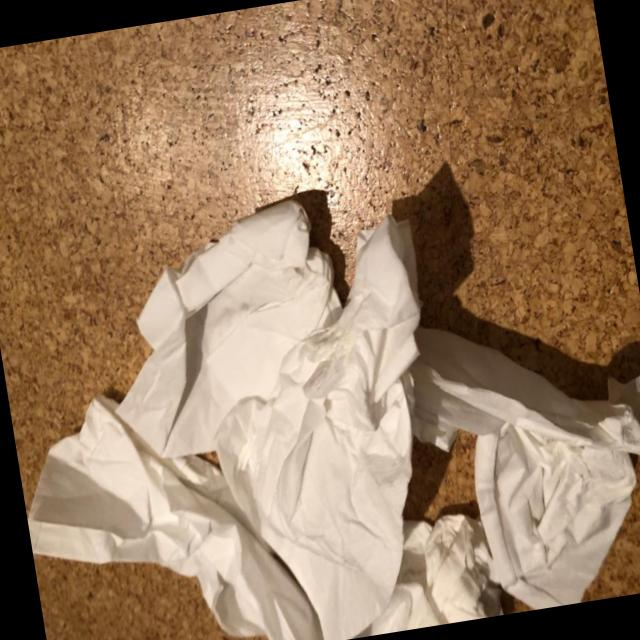organic waste: (0, 175, 476, 640), (386, 278, 640, 626), (91, 192, 361, 464), (356, 506, 502, 636)
